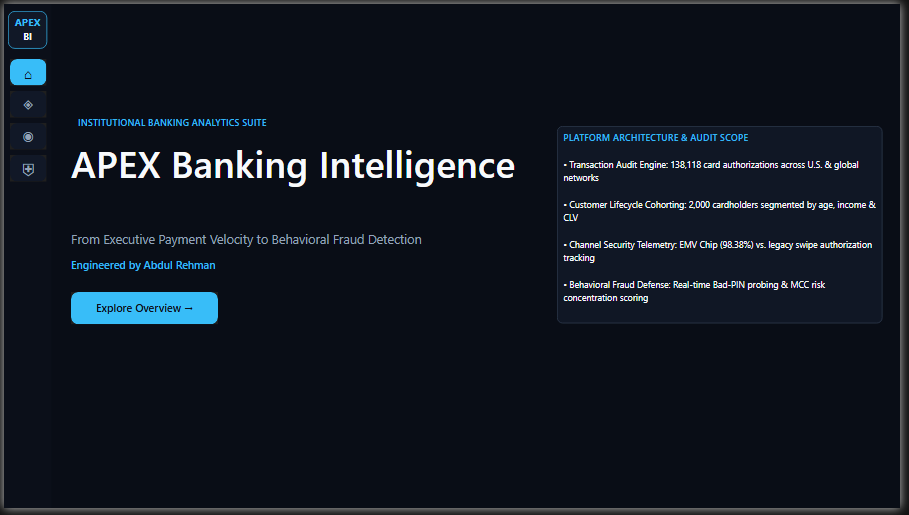

The dashboard page shown, as its layout file describes it:
{"tool":"powerbi","page":{"name":"Welcome","canvas":[1280,720],"ordinal":0},"visuals":[{"type":"textbox","box":[0,0,68,720],"z":1010},{"type":"textbox","box":[6,10,56,54],"z":1020},{"type":"actionButton","box":[8,78,52,38],"z":1030},{"type":"actionButton","box":[8,124,52,38],"z":1040},{"type":"actionButton","box":[8,170,52,38],"z":1050},{"type":"actionButton","box":[8,216,52,38],"z":1060},{"type":"textbox","box":[106.3,158.7,650,22],"z":1070},{"type":"textbox","box":[96.4,189.9,660,135],"z":1080},{"type":"textbox","box":[96,325,650,30],"z":1090},{"type":"textbox","box":[96,362,650,26],"z":1100},{"type":"textbox","box":[790,175,465,282],"z":1110},{"type":"actionButton","box":[96,412,210,46],"z":1170}]}

Visuals, with their boxes on the page's 1280x720 design canvas (x1, y1, x2, y2). These are canvas units, not pixel positions in the 909x515 screenshot, which may show the page scaled, cropped or inside an application window:
textbox: left=0, top=0, right=68, bottom=720
textbox: left=6, top=10, right=62, bottom=64
actionButton: left=8, top=78, right=60, bottom=116
actionButton: left=8, top=124, right=60, bottom=162
actionButton: left=8, top=170, right=60, bottom=208
actionButton: left=8, top=216, right=60, bottom=254
textbox: left=106, top=159, right=756, bottom=181
textbox: left=96, top=190, right=756, bottom=325
textbox: left=96, top=325, right=746, bottom=355
textbox: left=96, top=362, right=746, bottom=388
textbox: left=790, top=175, right=1255, bottom=457
actionButton: left=96, top=412, right=306, bottom=458
